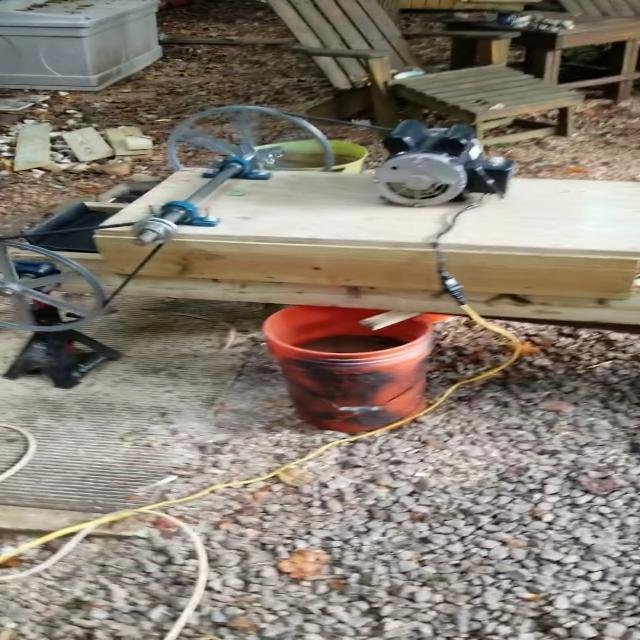Convoyeur: (18, 164, 640, 328)
